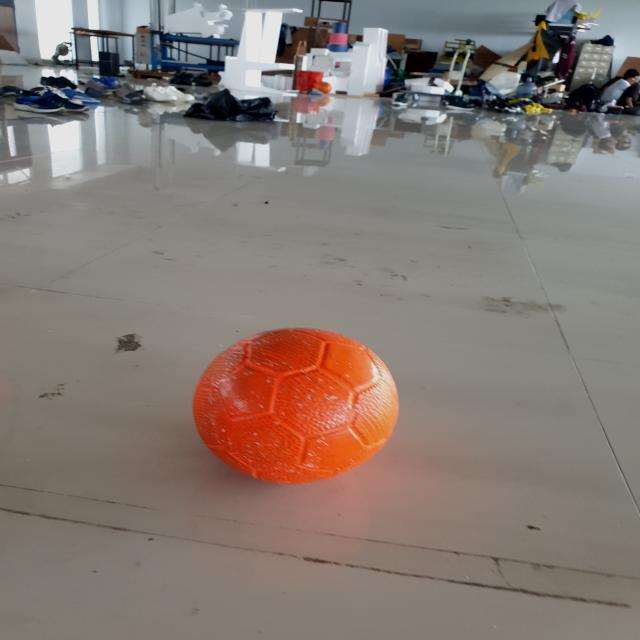bola: (182, 319, 410, 499)
